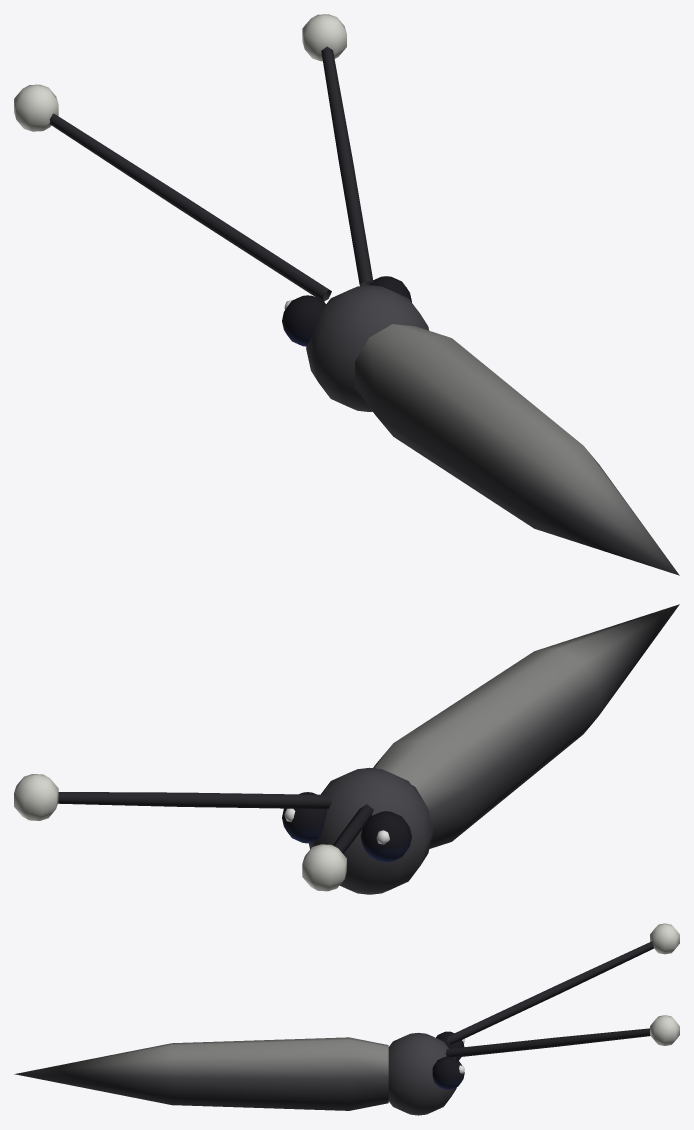
Rendered from Monshiro_Body.fbx.
The picture shows the model from 3 angles, top to bottom: view 1: azimuth 30°, elevation 25°; view 2: azimuth 150°, elevation 25°; view 3: azimuth 270°, elevation 25°; orthographic projection. The views are drawn at different scales.
Visible parts, largest first — view 1: Monshiro_Body; view 2: Monshiro_Body; view 3: Monshiro_Body.
Boxes of the visible parts, x1,y1,x2,y2 form: Monshiro_Body: [14, 14, 679, 575]; Monshiro_Body: [14, 604, 679, 894]; Monshiro_Body: [14, 923, 679, 1115].
Size of the model in its own units: 0.2504 by 0.158 by 0.6752.
